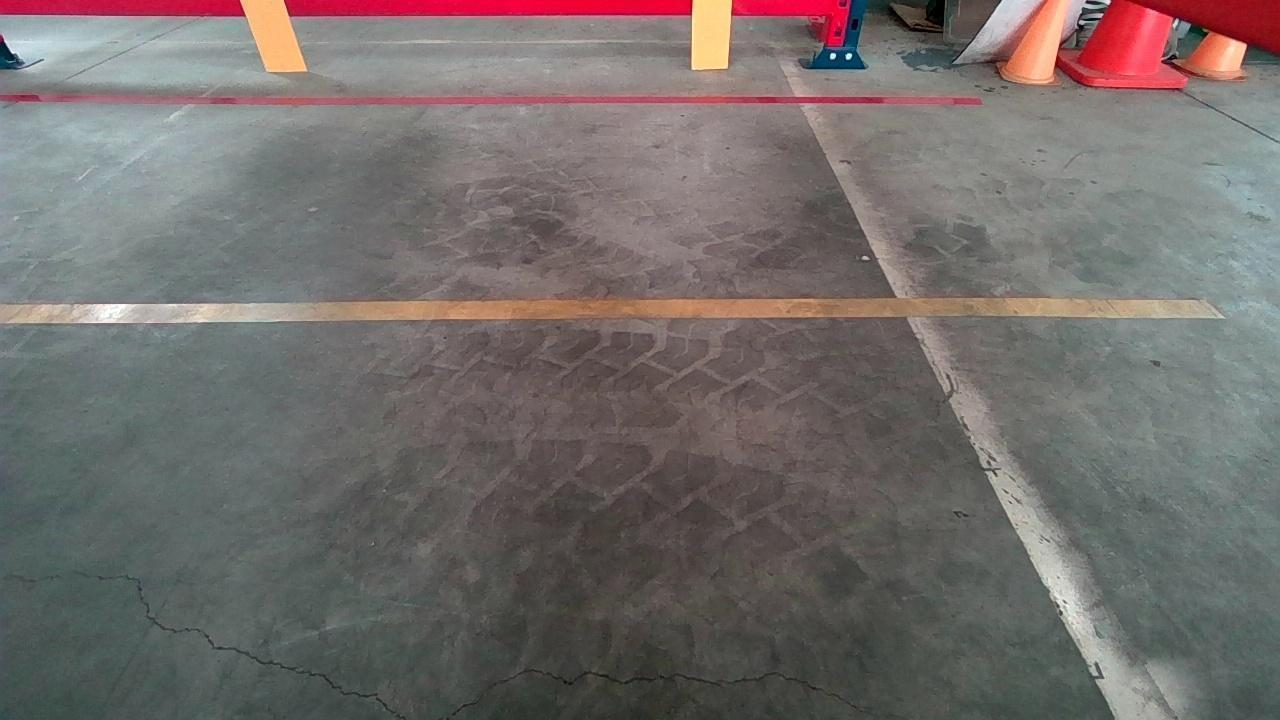red_line: (8, 86, 967, 112)
yellow_line: (13, 288, 1197, 333)
